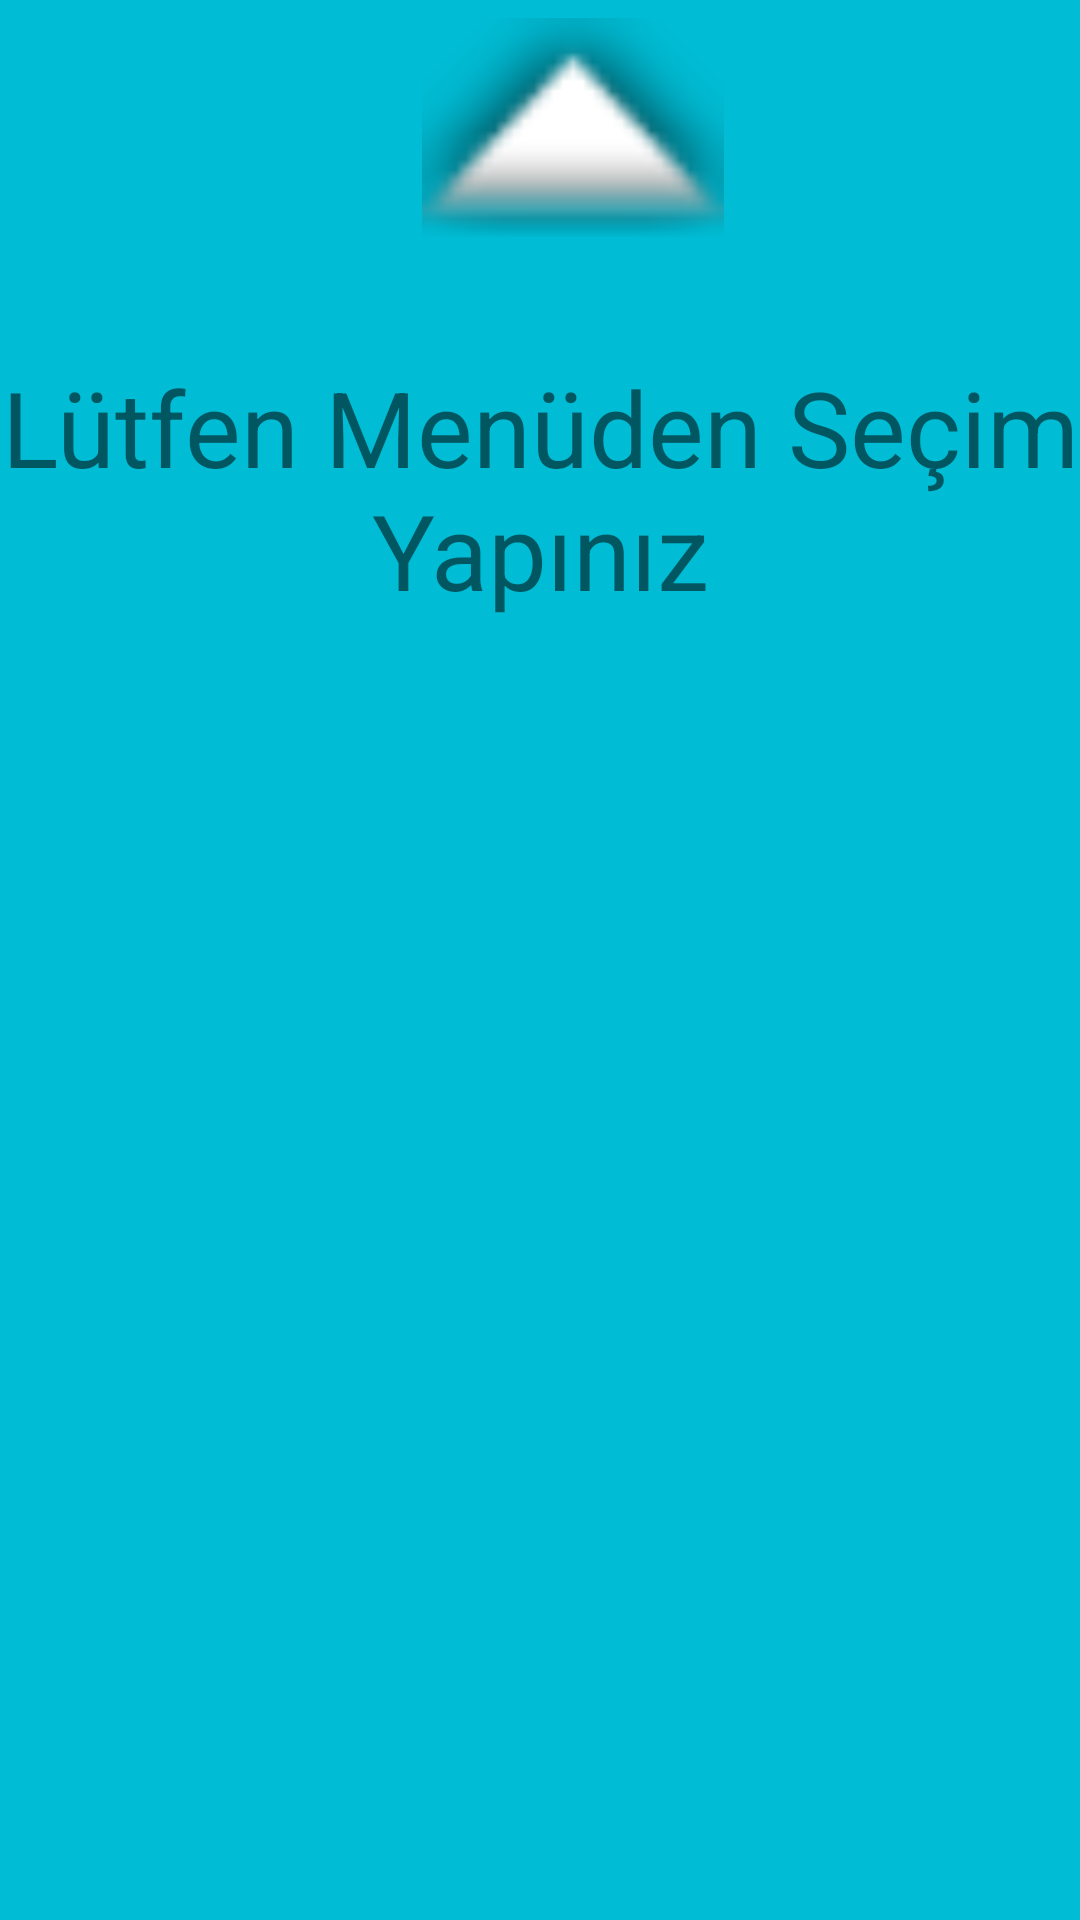

Screen size 1080px x 1920px. Icon name, then its box in pixels as bbox=(x1, y1, x2, y2):
arrow up float: bbox=(422, 29, 724, 229)
